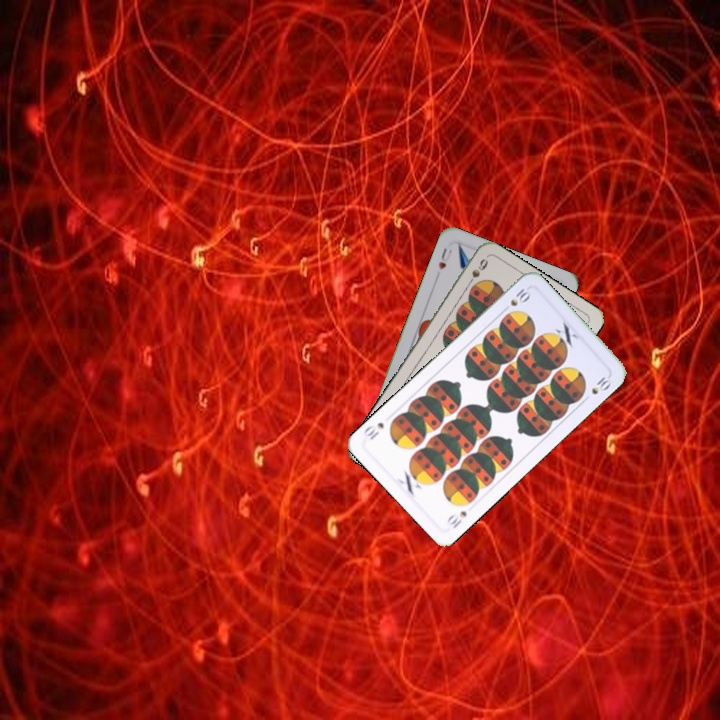HU: (434, 244, 454, 272)
S10: (506, 284, 534, 309), (443, 506, 469, 531)
S9: (462, 254, 491, 290)
